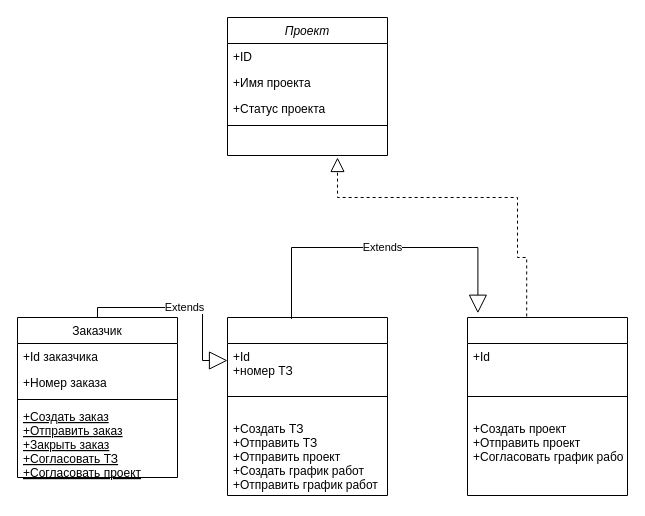
Some shapes in this 645 by 516 pixel diagram are drawn without their labels. Here are the shapes that lost their labels. From the top down, the box of each, then its label:
(226, 316, 388, 496): ГИП
(466, 316, 628, 496): Проектировщик
